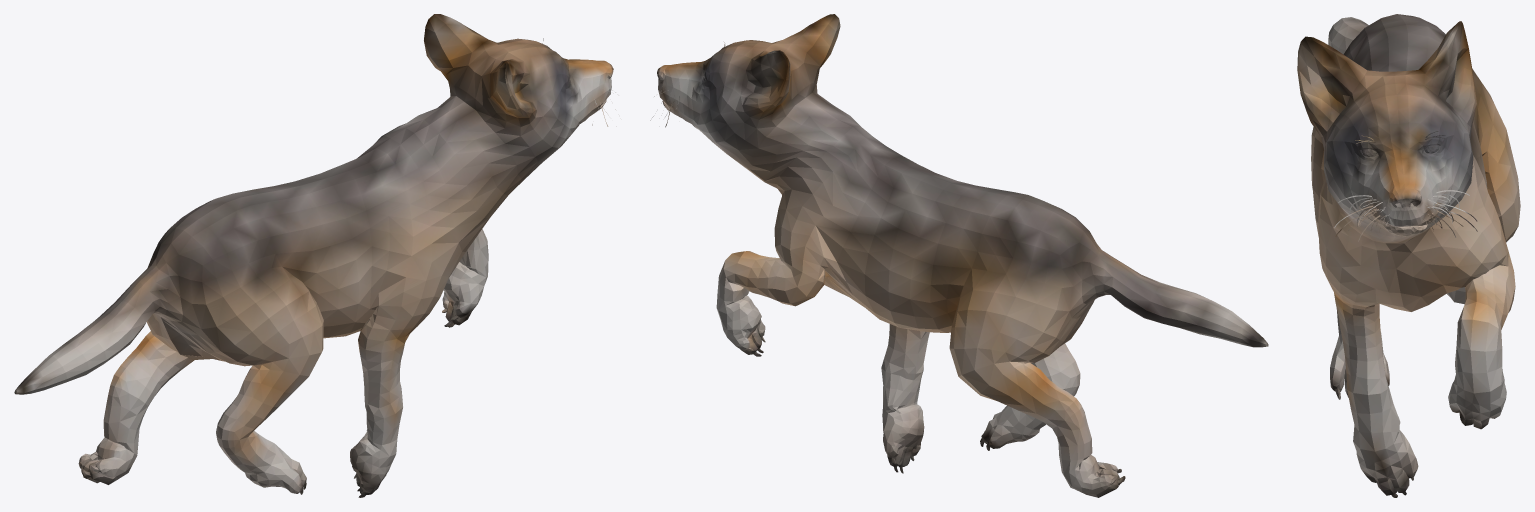
File: The_juvenile_gray_wolf_swims_and_then_treads_water.mesh.glb
The picture shows the model from 3 angles, left to right: view 1: azimuth 30°, elevation 25°; view 2: azimuth 150°, elevation 25°; view 3: azimuth 270°, elevation 25°; orthographic projection. The views are drawn at different scales.
Parts seen in each view (by area): view 1: root; view 2: root; view 3: root.
Boxes of the visible parts, x1=… form: root: x1=14, y1=14, x2=618, y2=497; root: x1=650, y1=14, x2=1268, y2=497; root: x1=1297, y1=14, x2=1520, y2=497.
Size of the model in its own units: 0.6107 by 0.4142 by 0.1563.
1 material, 1 textured.
